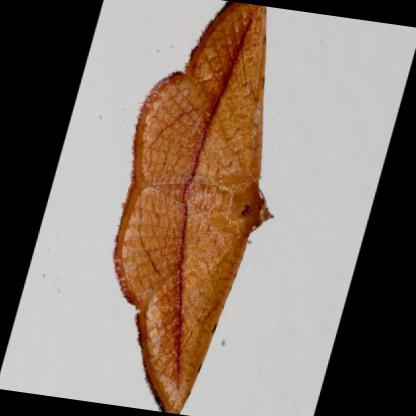Leaf Webber: (109, 2, 279, 413)
